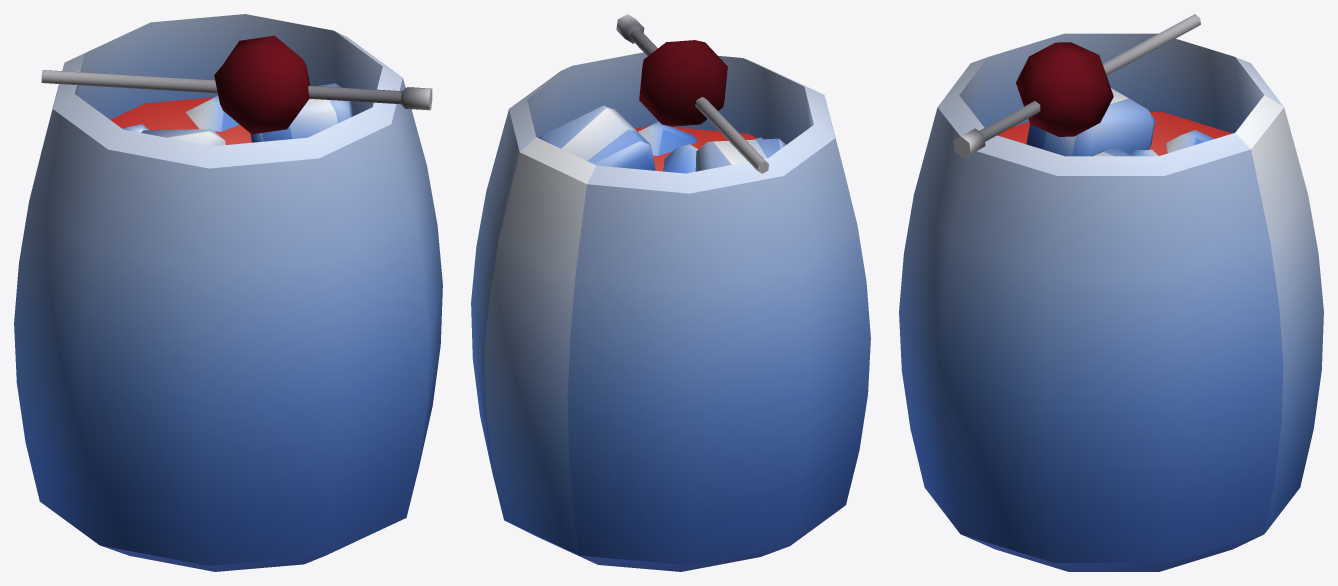
Rendered from m_Cocktail30.fbx.
3 views of the same model, side by side, from view 1: azimuth 30°, elevation 25°; view 2: azimuth 150°, elevation 25°; view 3: azimuth 270°, elevation 25° (orthographic). The views are drawn at different scales.
Parts seen in each view (by area): view 1: m_Cocktail30; view 2: m_Cocktail30; view 3: m_Cocktail30.
Boxes of the visible parts, <box> form: m_Cocktail30: <box>14,14,442,571</box>; m_Cocktail30: <box>471,14,870,571</box>; m_Cocktail30: <box>899,14,1323,571</box>.
Bounding box in the file's own units: 15.13 × 19.42 × 15.91.
